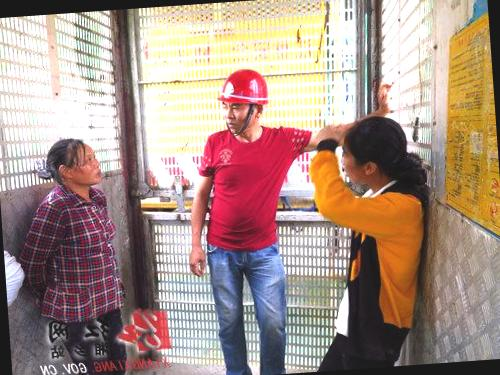no_helmet: (335, 106, 416, 186), (34, 132, 113, 200)
